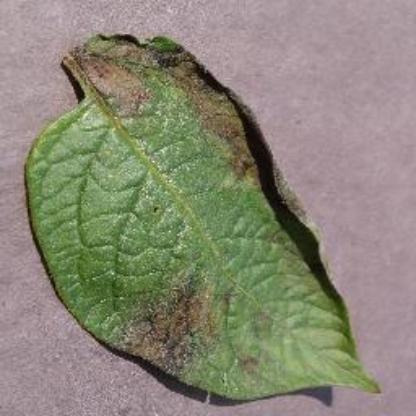Late-Blight: (24, 20, 396, 404)
